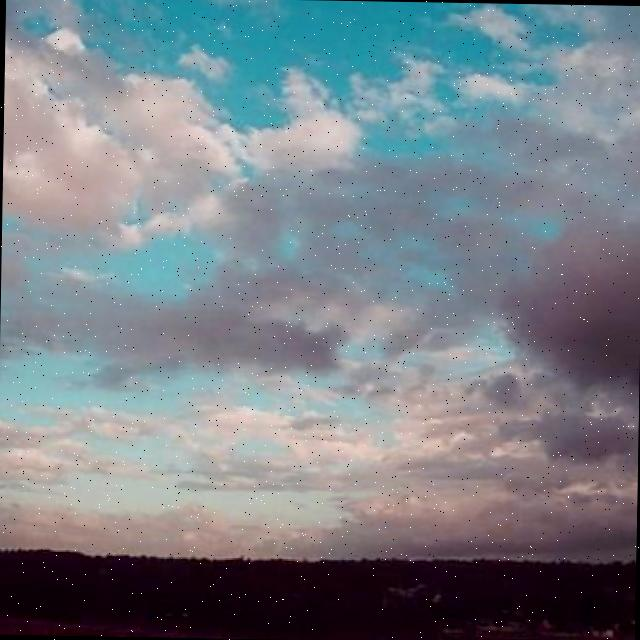Sc: (1, 46, 640, 487)
